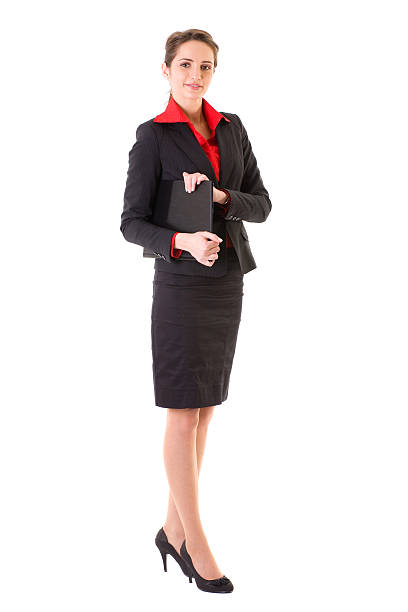F_tailored skirt: (135, 236, 266, 416)
